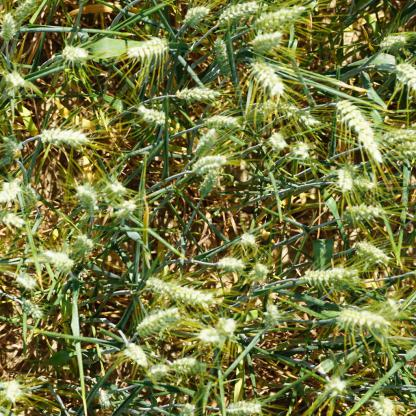whd: (327, 91, 382, 164), (243, 52, 288, 100), (298, 259, 361, 288), (38, 117, 90, 152), (246, 0, 308, 28), (350, 238, 402, 271), (242, 24, 292, 56), (336, 306, 390, 335), (126, 303, 179, 332), (337, 193, 382, 226), (193, 163, 226, 203), (172, 83, 224, 106), (239, 100, 284, 126), (386, 54, 416, 92), (197, 109, 245, 132), (120, 37, 168, 60), (173, 285, 217, 310), (217, 0, 262, 24), (374, 27, 416, 51), (379, 290, 409, 323), (290, 136, 317, 172), (38, 247, 73, 274), (169, 354, 208, 378), (314, 370, 351, 395), (133, 100, 170, 125), (72, 179, 100, 212), (184, 129, 219, 155), (215, 36, 234, 82), (223, 397, 269, 416), (68, 229, 100, 255), (370, 390, 402, 416), (100, 174, 129, 202), (179, 4, 211, 29), (182, 155, 226, 173), (380, 121, 416, 143), (90, 384, 118, 412), (60, 42, 90, 68), (350, 170, 376, 200), (0, 176, 27, 204), (121, 339, 148, 367), (10, 267, 40, 292), (190, 322, 221, 346), (326, 168, 356, 192), (382, 140, 416, 161), (261, 303, 284, 334), (12, 296, 43, 319), (0, 67, 29, 91), (0, 12, 19, 47), (292, 106, 322, 128), (0, 381, 26, 406), (217, 314, 242, 340), (0, 203, 25, 228), (0, 134, 23, 161), (216, 252, 245, 273), (144, 272, 169, 296), (13, 0, 44, 19), (265, 129, 286, 155), (116, 199, 142, 219), (247, 261, 273, 280), (149, 364, 172, 384), (230, 229, 257, 246), (176, 402, 204, 416)
